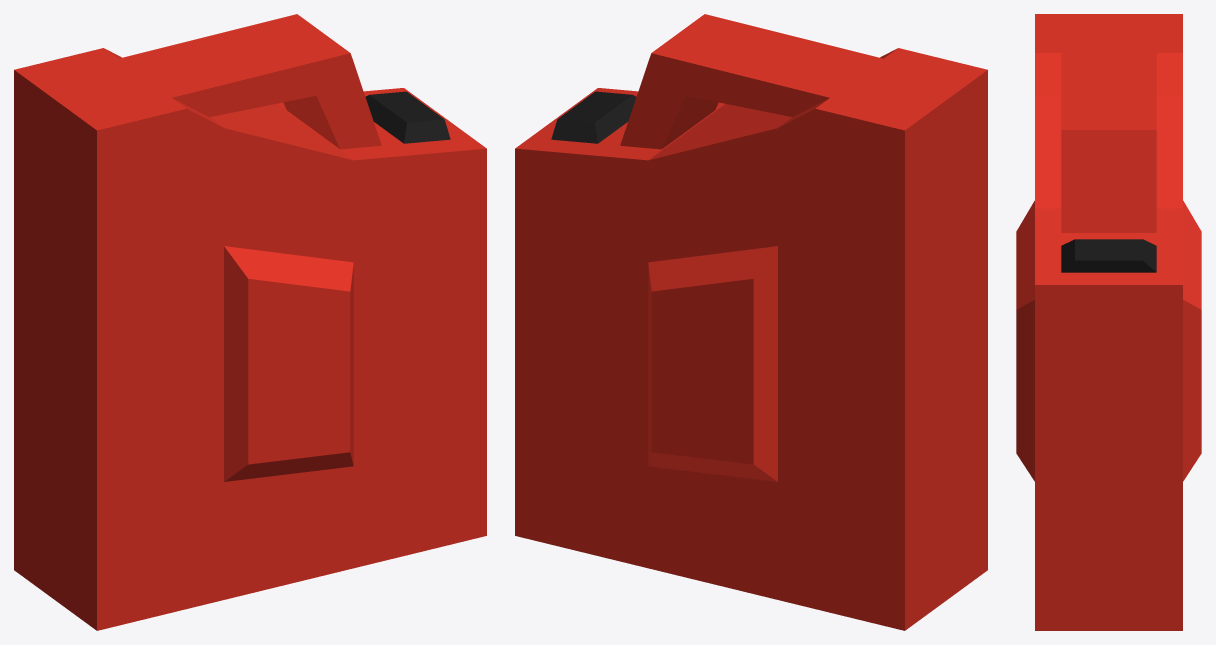
File: Fuelcan.fbx
The picture shows the model from 3 angles, left to right: view 1: azimuth 30°, elevation 25°; view 2: azimuth 150°, elevation 25°; view 3: azimuth 270°, elevation 25°; orthographic projection. The views are drawn at different scales.
Visible parts, largest first — view 1: Fuelcan; view 2: Fuelcan; view 3: Fuelcan.
Boxes of the visible parts, box(x1,y1,x2,y2) form: Fuelcan: box(14, 14, 486, 630); Fuelcan: box(515, 14, 987, 630); Fuelcan: box(1016, 14, 1201, 630).
Bounding box in the file's own units: 375 × 461 × 173.
